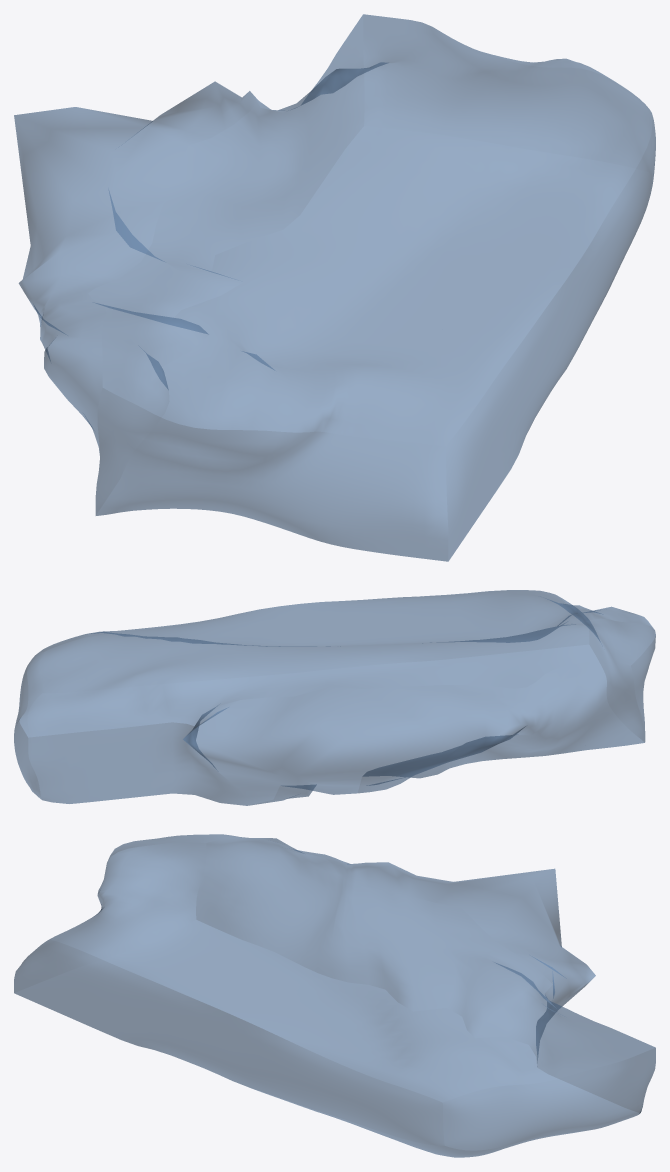
Rendered from River.fbx.
3 views of the same model, one above another, from view 1: azimuth 30°, elevation 25°; view 2: azimuth 150°, elevation 25°; view 3: azimuth 270°, elevation 25° (orthographic). The views are drawn at different scales.
Parts seen in each view (by area): view 1: pCube1; view 2: pCube1; view 3: pCube1.
Boxes of the visible parts, x1,y1,x2,y2 form: pCube1: [14, 14, 655, 561]; pCube1: [14, 590, 655, 805]; pCube1: [14, 834, 655, 1157].
Size of the model in its own units: 14.31 by 3.33 by 15.73.
